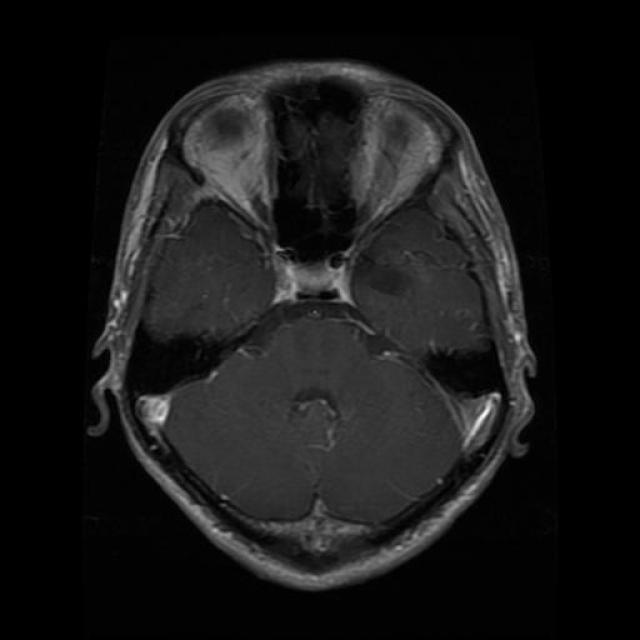glioma: (282, 391, 342, 455)
